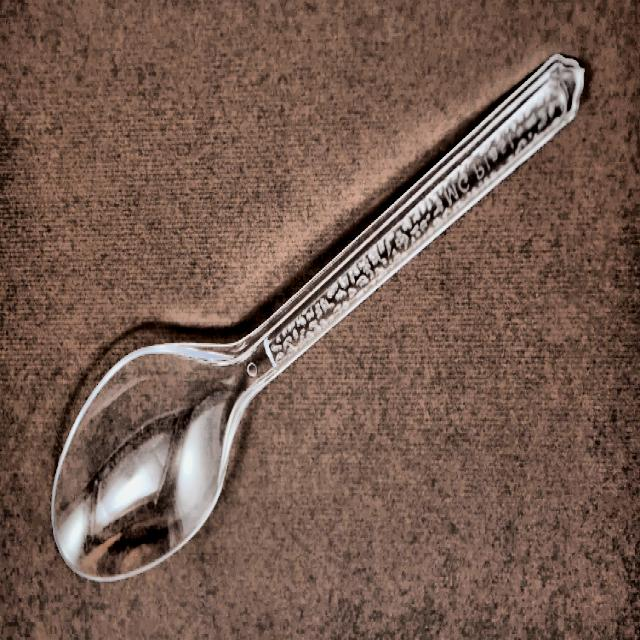plastic utensil: (40, 31, 589, 608)
